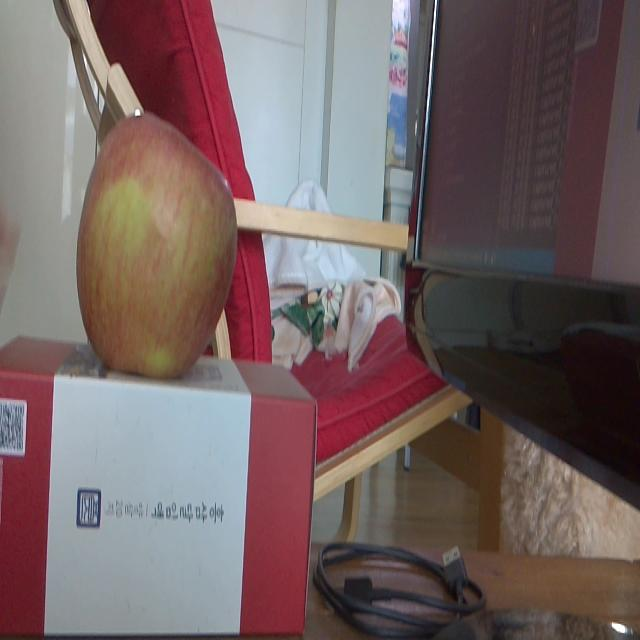apple: (77, 104, 240, 374)
